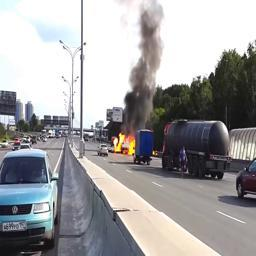fire: (112, 132, 135, 155)
